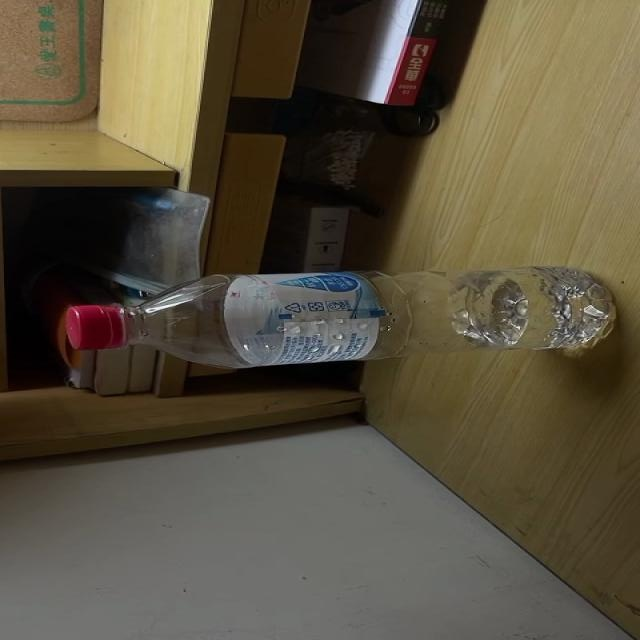Water: (61, 264, 616, 368)
